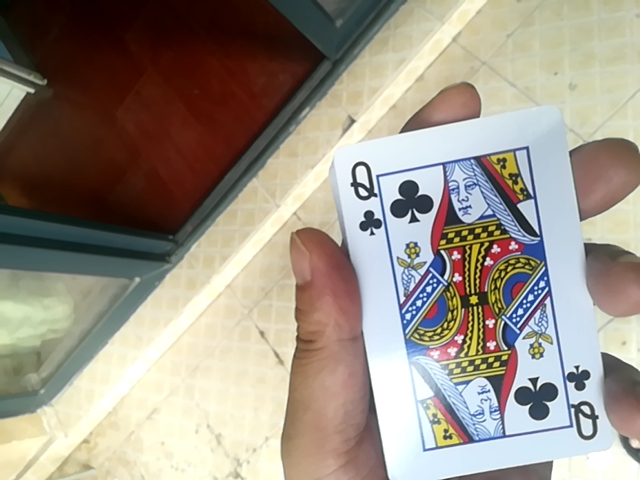mh q: (347, 90, 628, 480)
